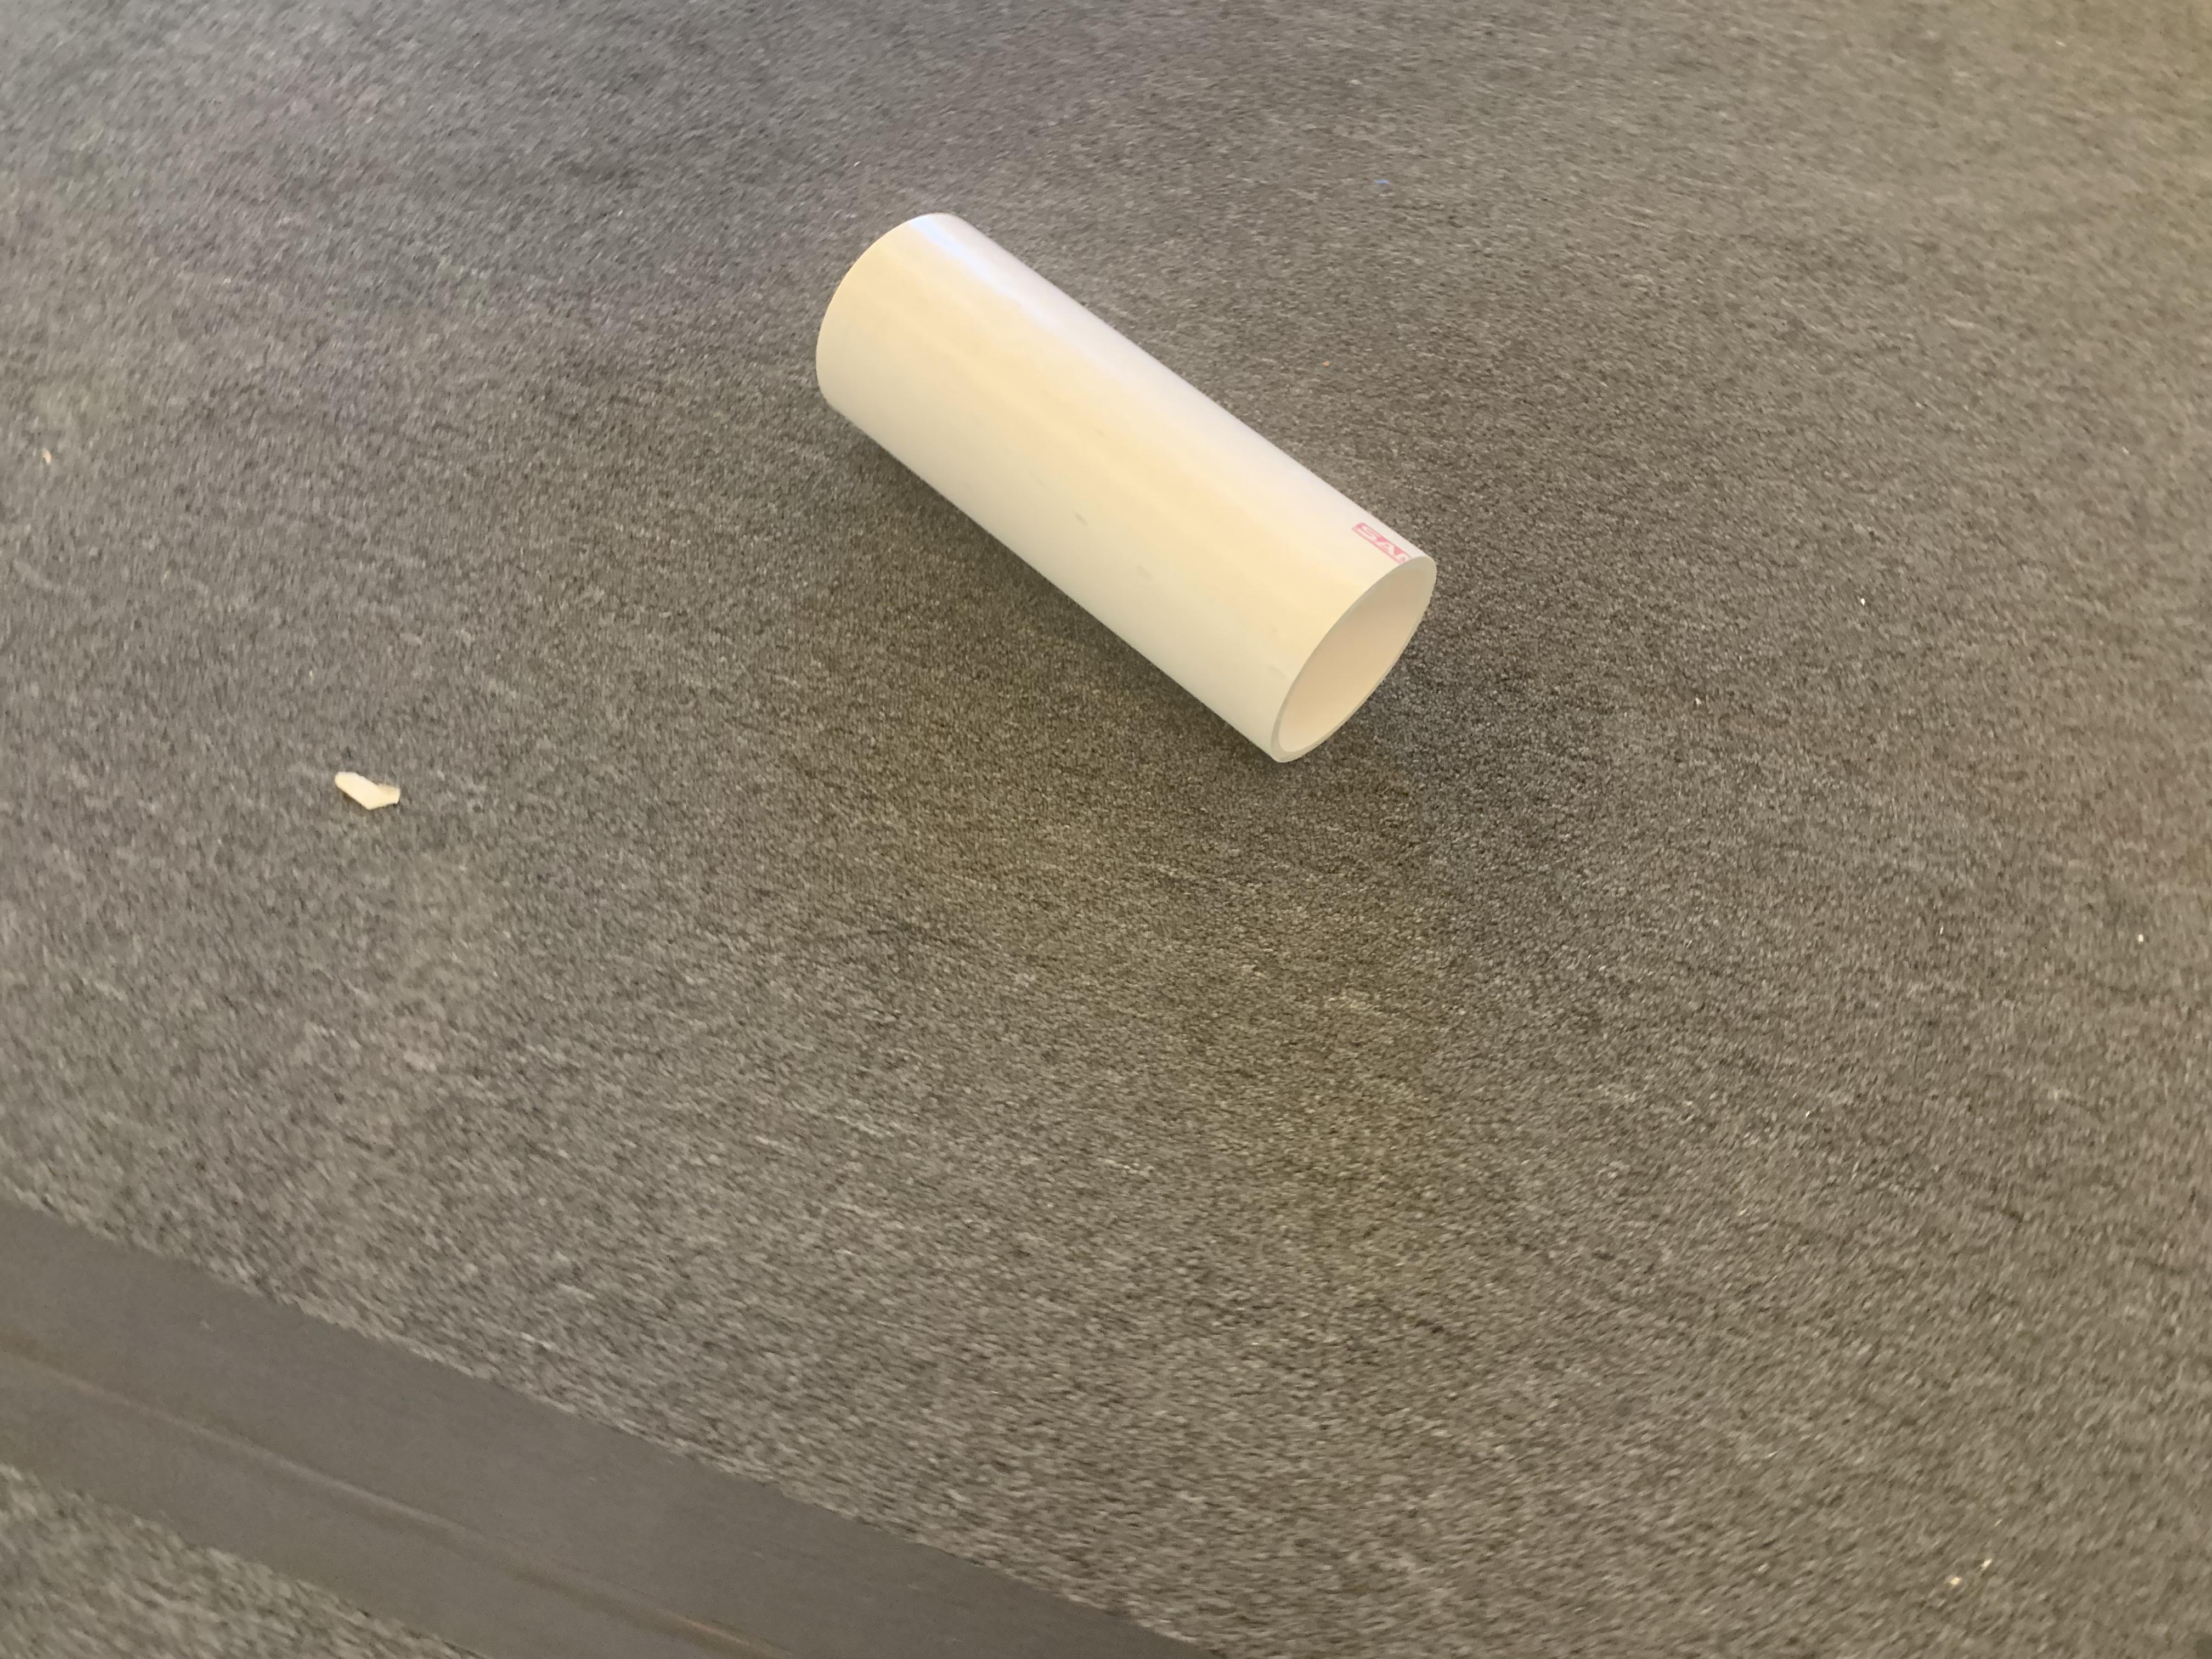coral: (810, 207, 1439, 765)
